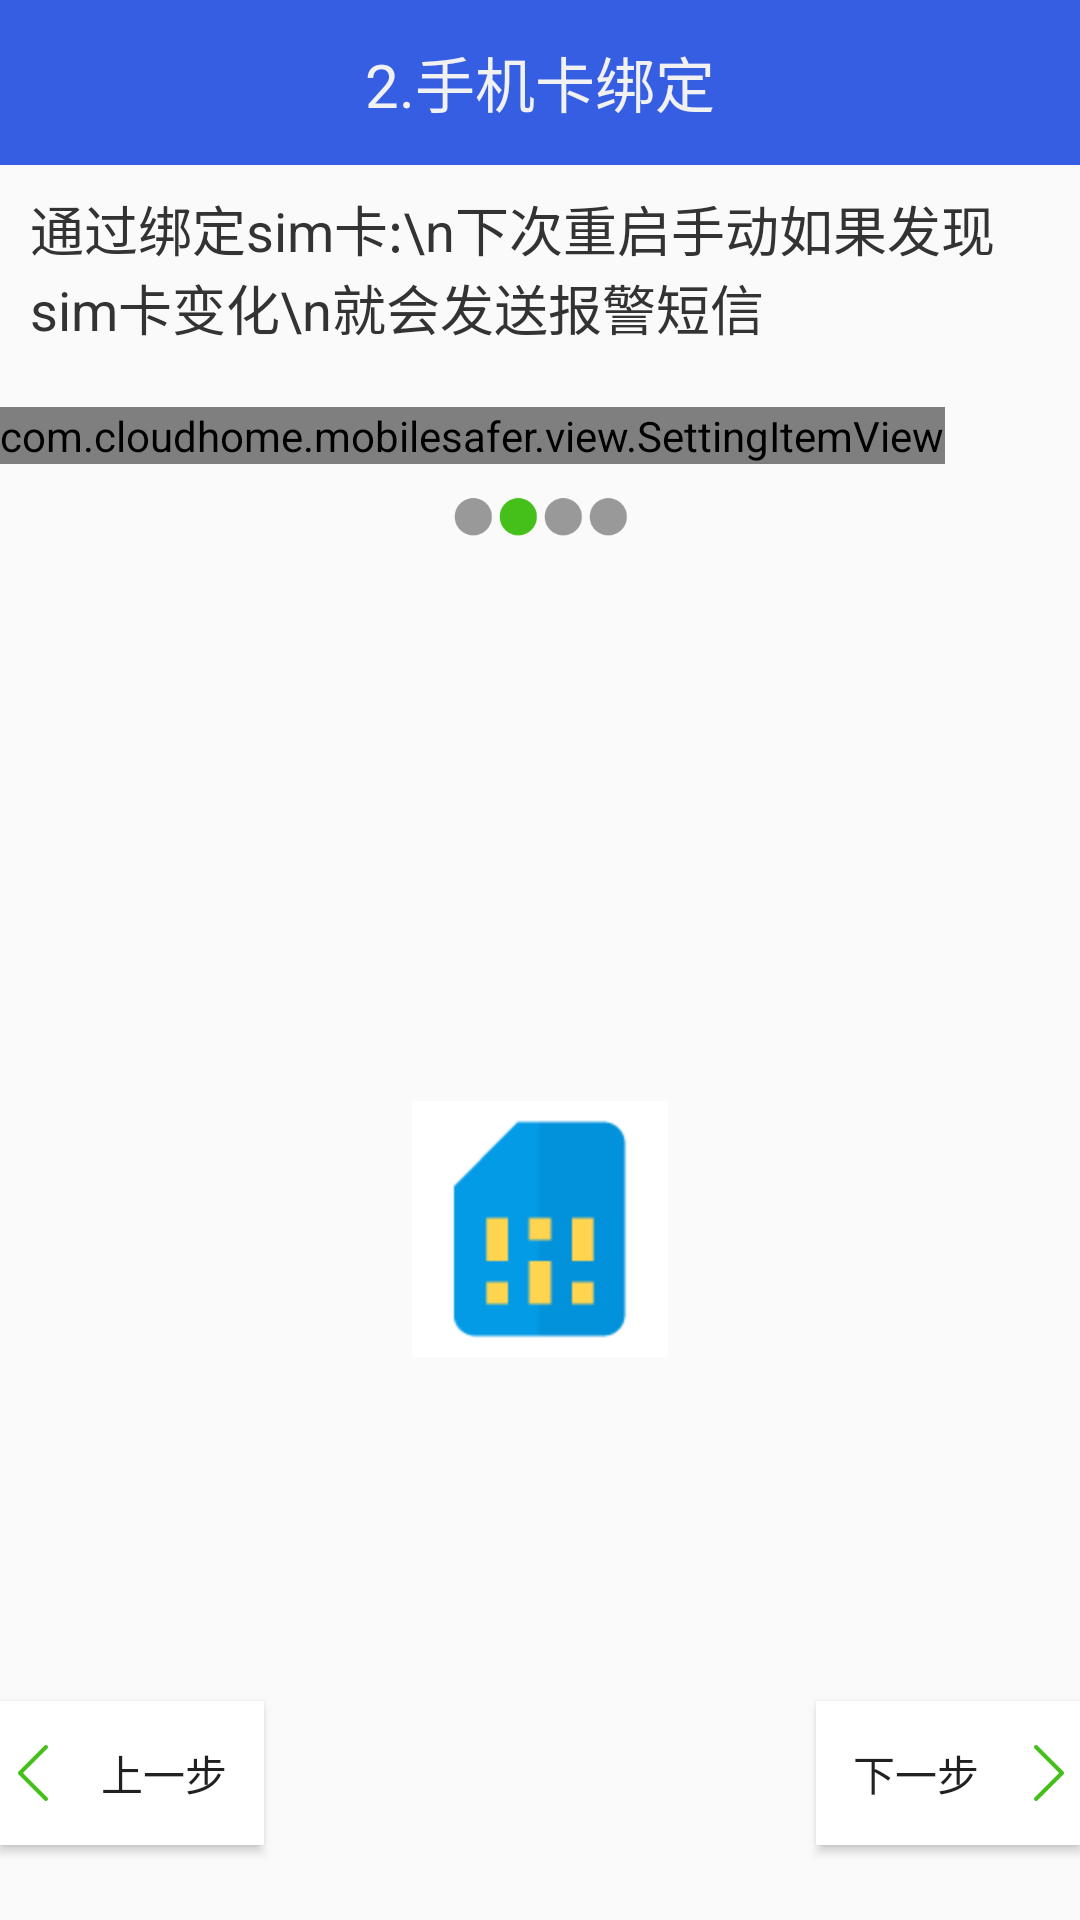

Icons on this 1080px×1920px Android screen, each with the point to tap as [x,y]:
dot: [473,517], [518,517], [563,517], [608,517]
sim: [540,1229]
